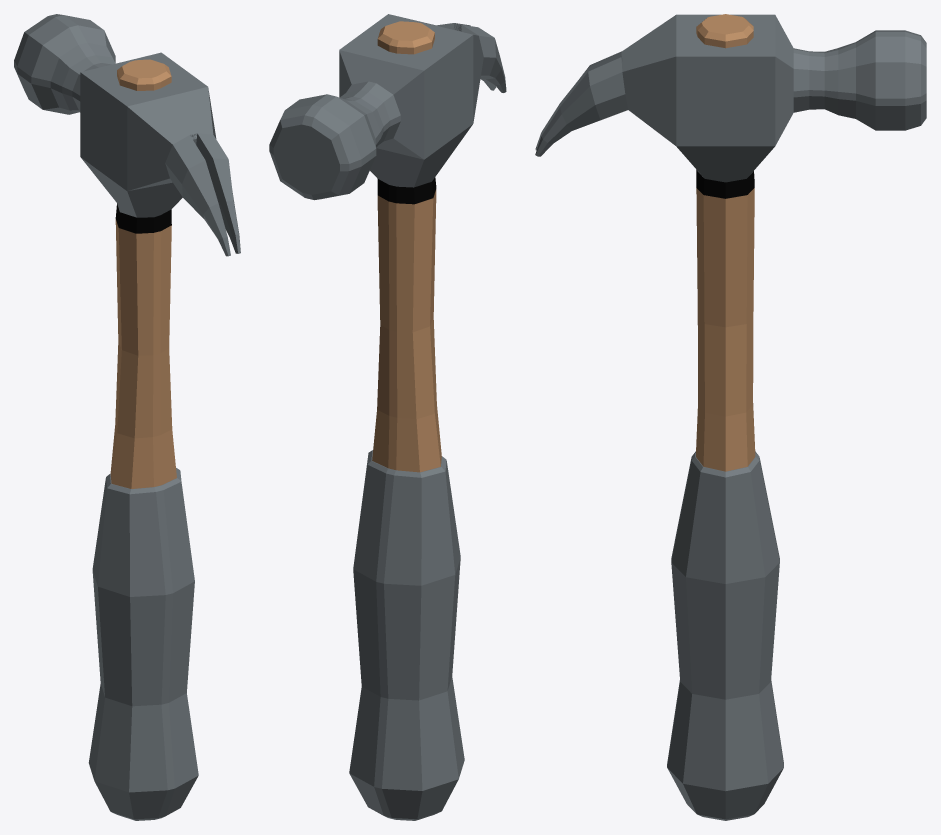
The model's file is Hammer.fbx.
3 renders of one model, left to right at view 1: azimuth 30°, elevation 25°; view 2: azimuth 150°, elevation 25°; view 3: azimuth 270°, elevation 25°, orthographic. The views are drawn at different scales.
Parts seen in each view (by area): view 1: Cube.002; view 2: Cube.002; view 3: Cube.002.
Boxes of the visible parts, box(x1,y1,x2,y2) form: Cube.002: box(14, 14, 240, 820); Cube.002: box(269, 14, 506, 820); Cube.002: box(535, 14, 926, 820).
Bounding box in the file's own units: 13.97 × 100 × 45.27.
